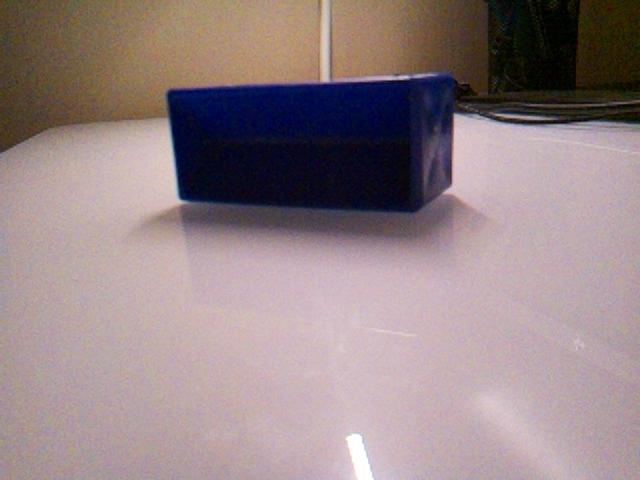blue: (164, 71, 458, 214)
